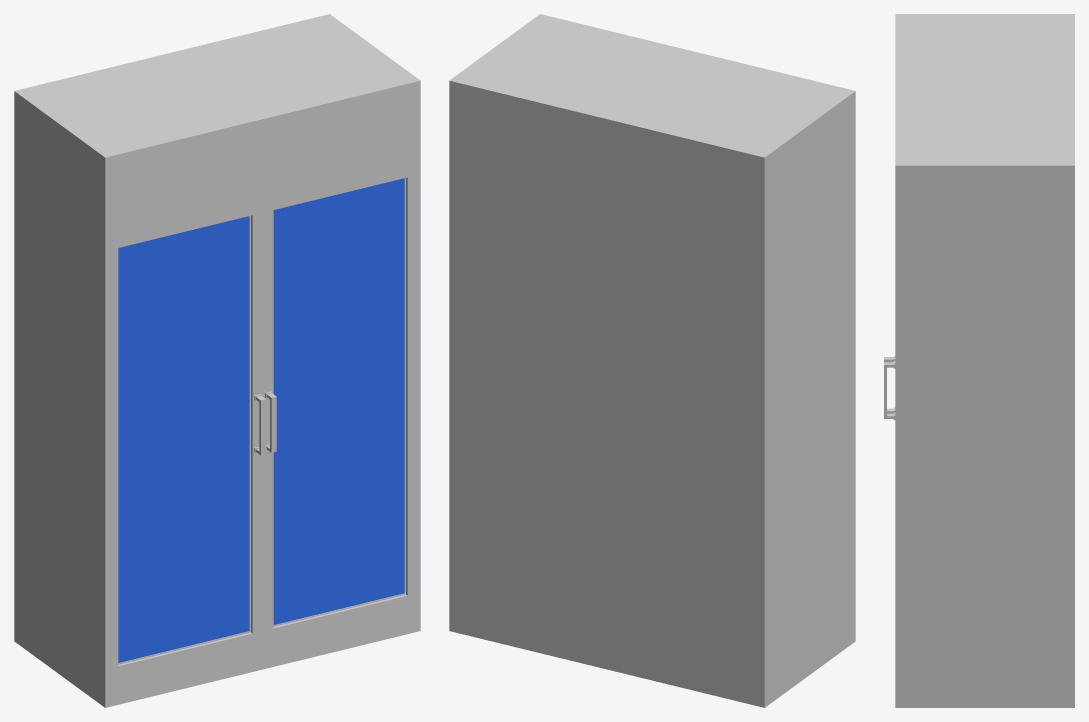
The model's file is Fridge_4ttiif.fbx.
3 renders of one model, left to right at view 1: azimuth 30°, elevation 25°; view 2: azimuth 150°, elevation 25°; view 3: azimuth 270°, elevation 25°, orthographic.
Visible parts, largest first — view 1: Fridge_4ttiif, Fridge_4ttiif_DoorLeft, Fridge_4ttiif_DoorRight; view 2: Fridge_4ttiif, Fridge_4ttiif_DoorLeft; view 3: Fridge_4ttiif, Fridge_4ttiif_DoorRight.
Part boxes in pixels (<box>): Fridge_4ttiif: <box>14,14,420,707</box>; Fridge_4ttiif_DoorLeft: <box>101,202,265,680</box>; Fridge_4ttiif_DoorRight: <box>263,163,420,641</box>; Fridge_4ttiif: <box>449,14,855,707</box>; Fridge_4ttiif_DoorLeft: <box>852,174,855,616</box>; Fridge_4ttiif: <box>895,14,1074,707</box>; Fridge_4ttiif_DoorRight: <box>884,247,902,680</box>.
Bounding box in the file's own units: 120 × 200 × 63.83.
